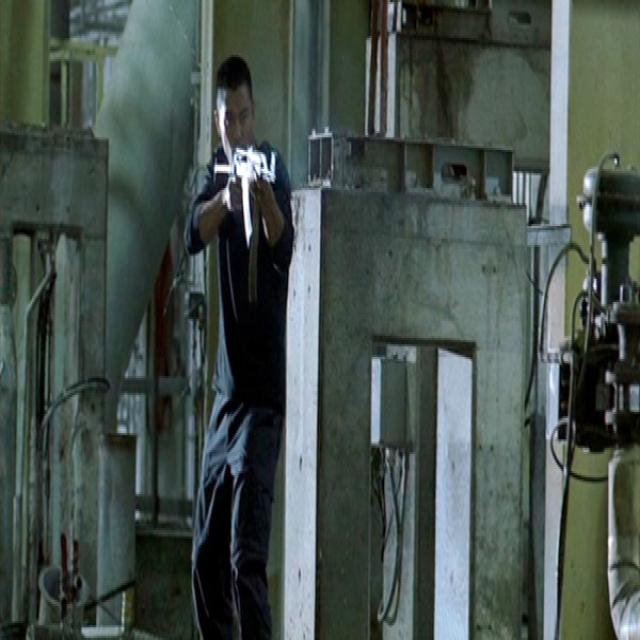rifle: (208, 144, 286, 250)
